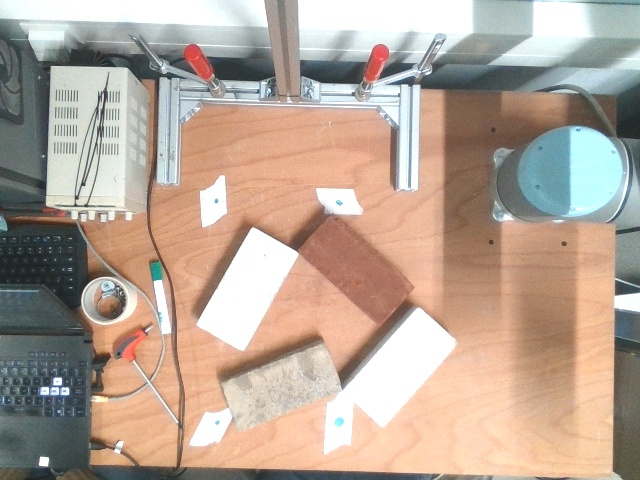brick: (342, 307, 459, 429), (294, 212, 416, 328), (196, 226, 301, 353), (216, 341, 344, 436)
